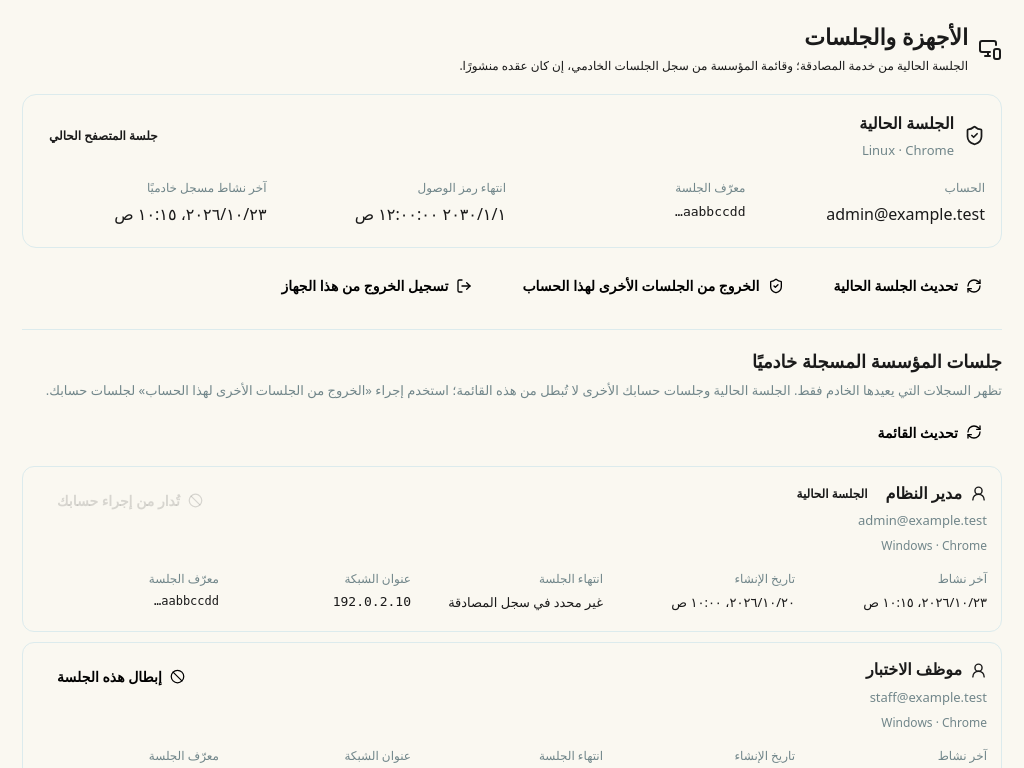
Scenario: central device and session management › loads server-backed tenant sessions and revokes one selected non-current session only after exact acknowledgement
Expected: the button with aria-label "إبطال جلسة مدير النظام" is disabled, [37, 481, 223, 520]
Click the button with aria-label "إبطال جلسة موظف الاختبار".
click(121, 677)  # box [37, 657, 205, 696]
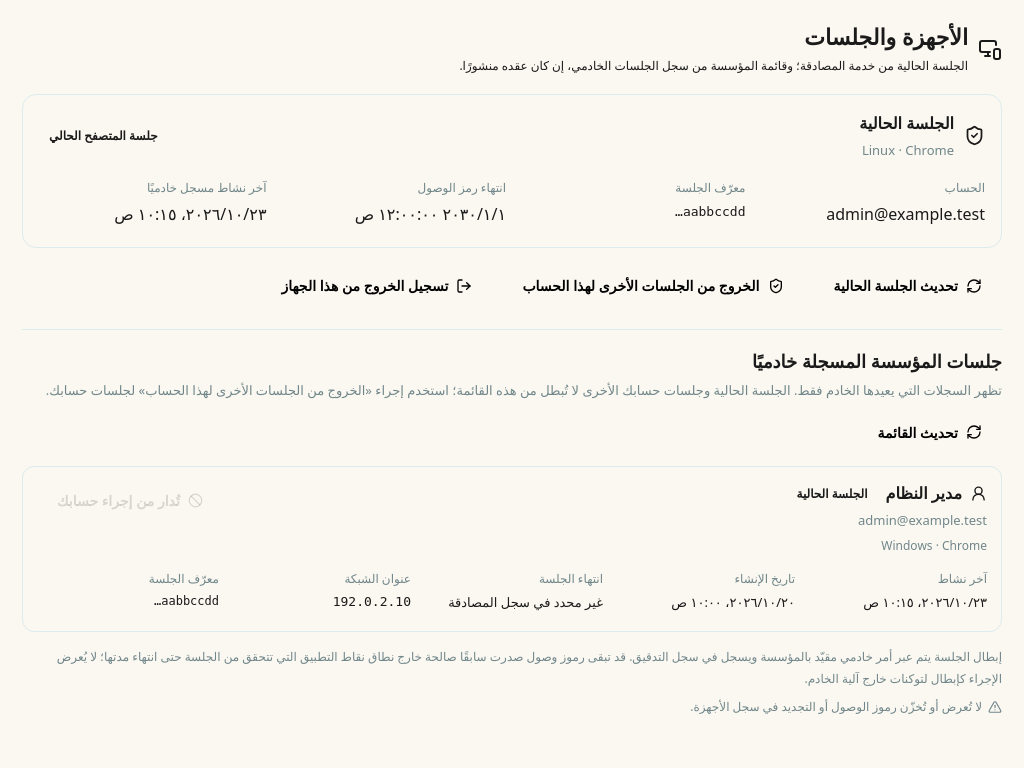
Now the text "موظف الاختبار" is gone
